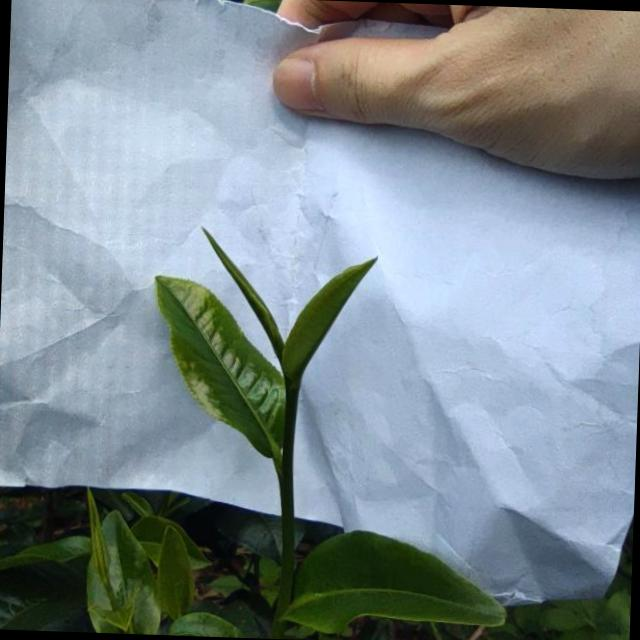Stem: (278, 471, 293, 507)
